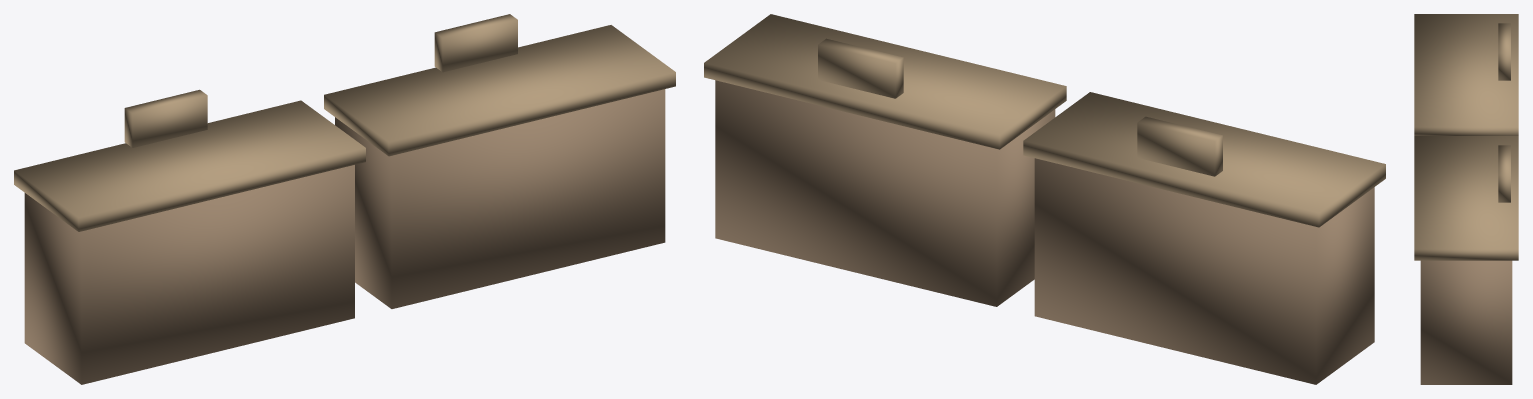
The model's file is judge_bench__cluster.glb.
3 renders of one model, left to right at view 1: azimuth 30°, elevation 25°; view 2: azimuth 150°, elevation 25°; view 3: azimuth 270°, elevation 25°, orthographic. The views are drawn at different scales.
Parts seen in each view (by area): view 1: world; view 2: world; view 3: world.
Part boxes in pixels (x1=…): world: x1=14, y1=14, x2=675, y2=384; world: x1=704, y1=14, x2=1385, y2=384; world: x1=1414, y1=14, x2=1518, y2=384.
Bounding box in the file's own units: 4.37 × 1.48 × 0.82.
